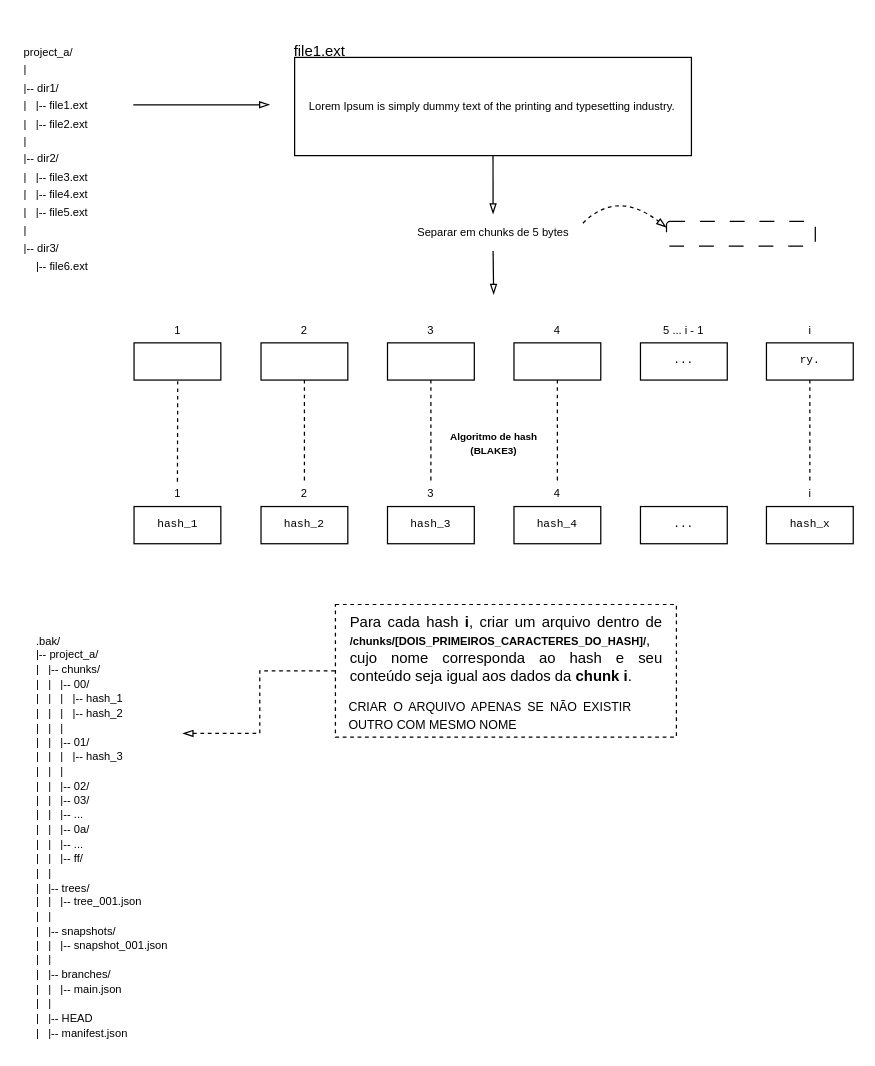
Image size: 875x1066. Some labels were removed from this diagram. The shapes that lost their labels are listed below. From the top down, each one's box as (x1, y1, x2, y2) in pixels, then its label:
(665, 220, 815, 246): Tamanho de bytes ajustável
(133, 342, 221, 380): Lorem
(260, 342, 348, 380): Ipsi
(386, 342, 474, 380): m is
(513, 342, 601, 380): simply
